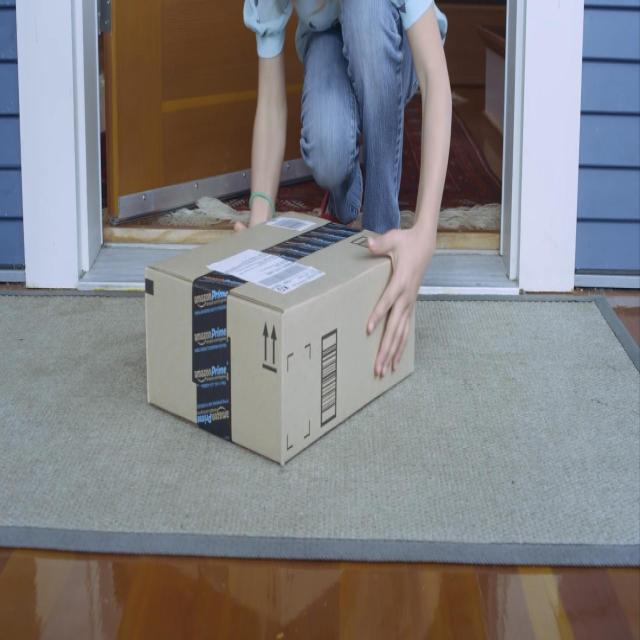Pathole: (140, 206, 423, 471)
